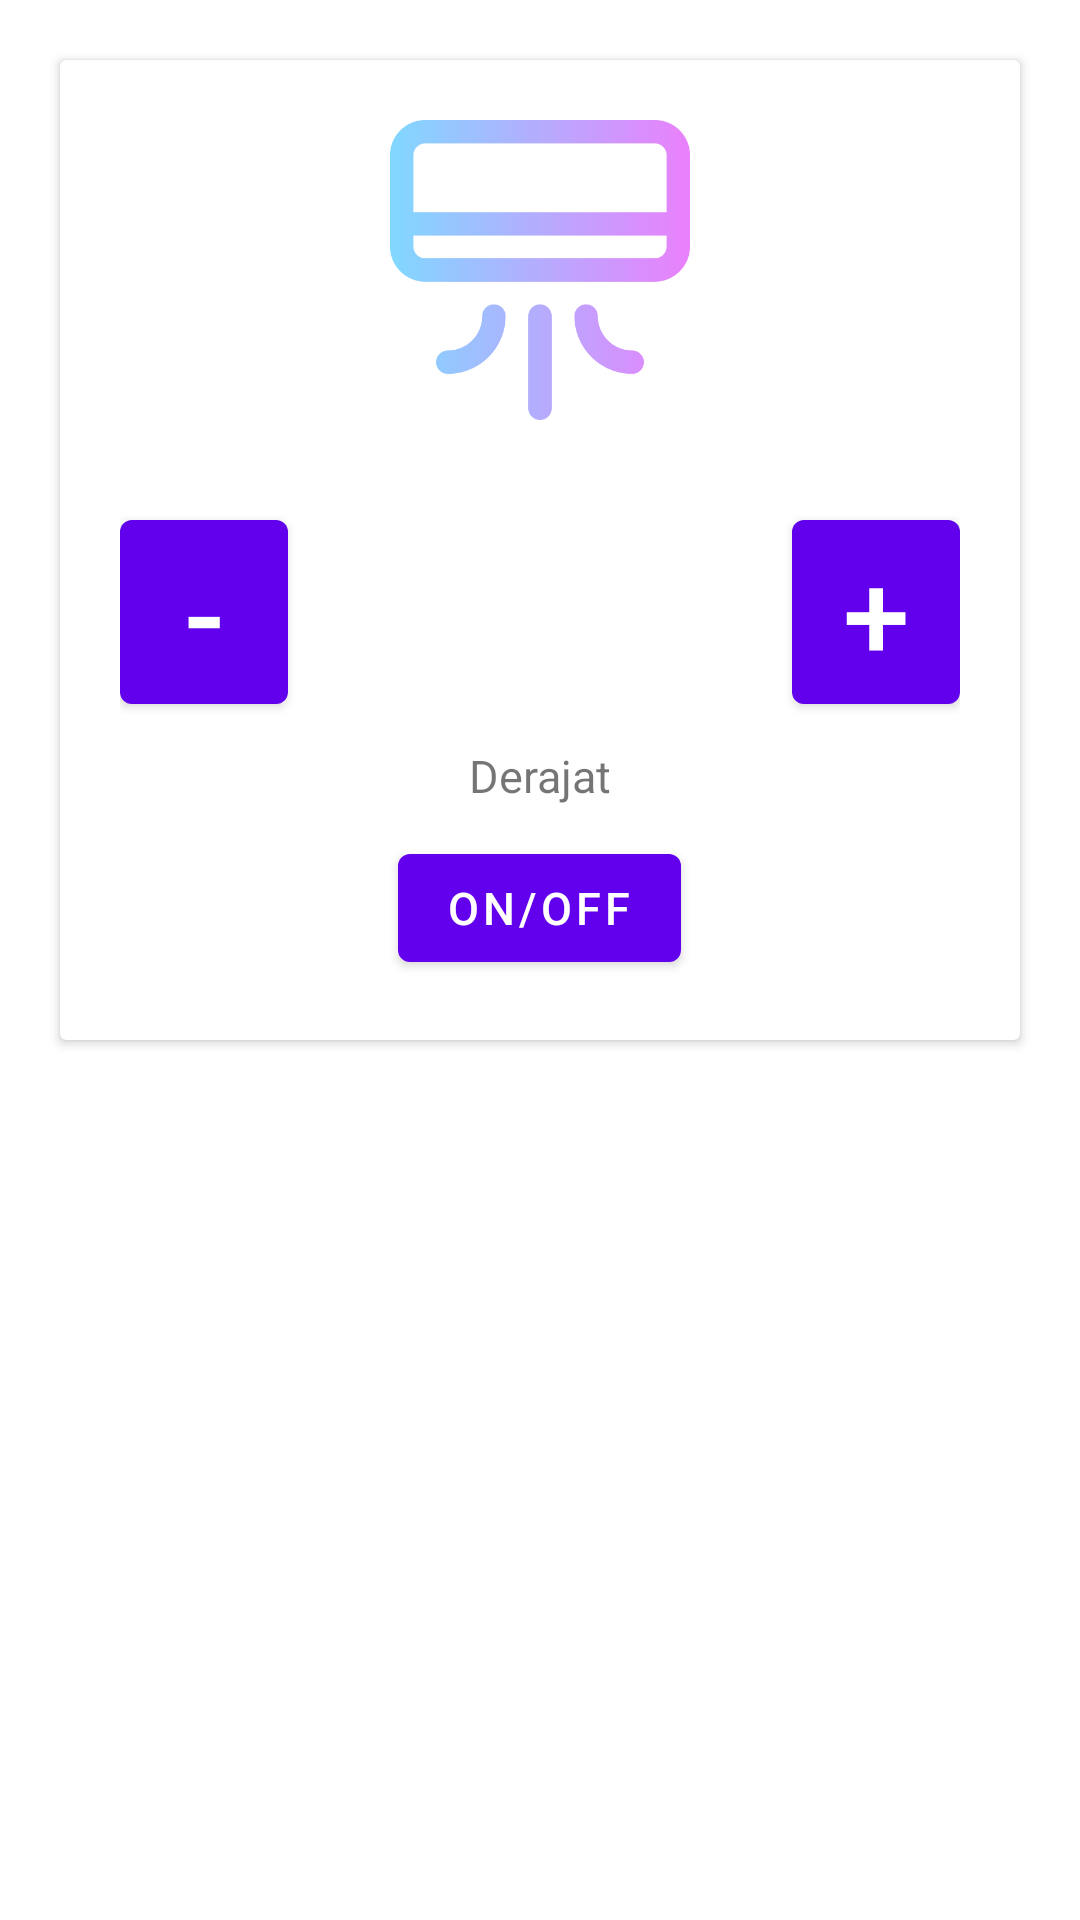

Named icons in this screenshot (1080w x 1920h) and their centers, [x,y]:
acon: [540,270]
